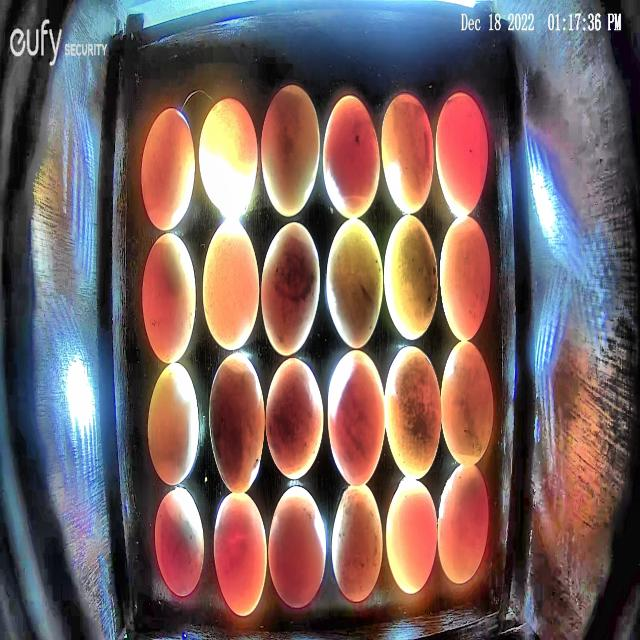DE: (260, 83, 321, 217), (260, 221, 320, 357), (327, 349, 385, 487), (202, 218, 260, 352), (264, 356, 325, 479), (210, 354, 264, 492), (385, 346, 441, 479), (327, 218, 383, 349), (142, 232, 196, 366), (268, 487, 327, 609), (323, 95, 380, 218), (198, 97, 258, 213), (140, 106, 195, 230), (384, 216, 438, 341), (435, 93, 489, 216), (441, 340, 493, 466), (214, 492, 267, 615), (439, 216, 491, 341), (381, 92, 433, 216), (147, 363, 199, 487), (437, 463, 489, 585), (331, 483, 383, 603), (386, 478, 437, 596), (154, 487, 204, 598)
